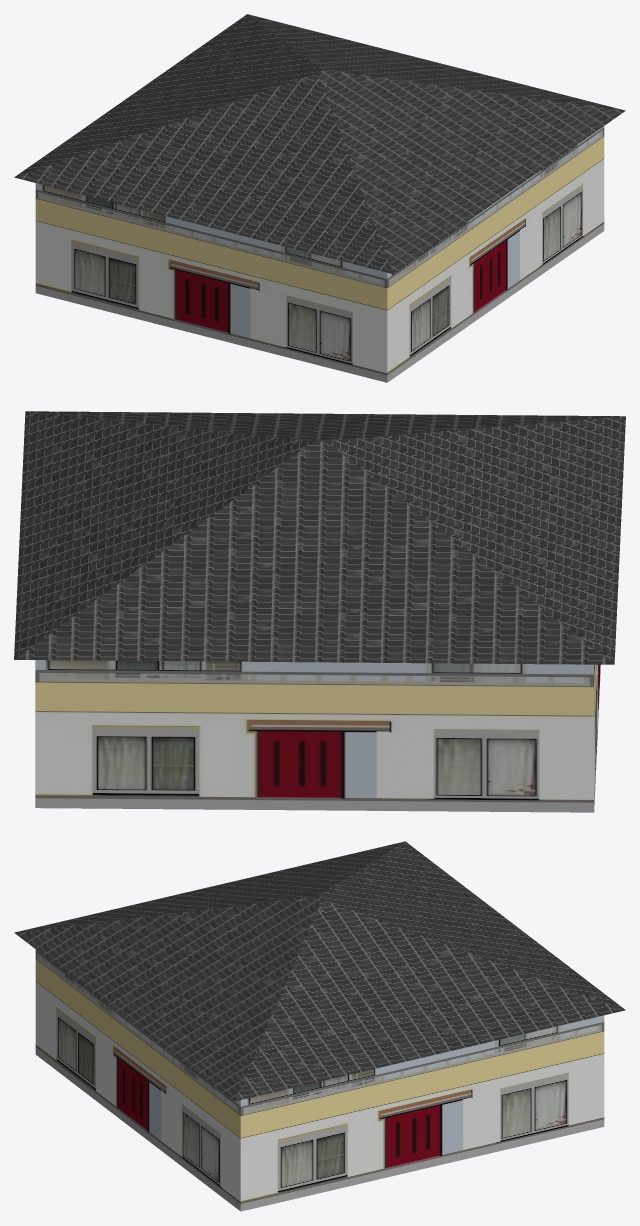
The picture shows the model from 3 angles, top to bottom: view 1: azimuth 30°, elevation 25°; view 2: azimuth 150°, elevation 25°; view 3: azimuth 270°, elevation 25°; orthographic projection. The views are drawn at different scales.
Visible parts, largest first — view 1: CityEngineMaterial_16_m, CityEngineMaterial_15_m; view 2: CityEngineMaterial_16_m, CityEngineMaterial_15_m; view 3: CityEngineMaterial_16_m, CityEngineMaterial_15_m.
Boxes of the visible parts, x1,y1,x2,y2 form: CityEngineMaterial_16_m: [14, 14, 625, 273]; CityEngineMaterial_15_m: [35, 126, 604, 382]; CityEngineMaterial_16_m: [14, 411, 625, 664]; CityEngineMaterial_15_m: [35, 660, 600, 812]; CityEngineMaterial_16_m: [14, 841, 625, 1101]; CityEngineMaterial_15_m: [35, 949, 604, 1211].
Size of the model in its own units: 36.5 by 12.62 by 36.28.
